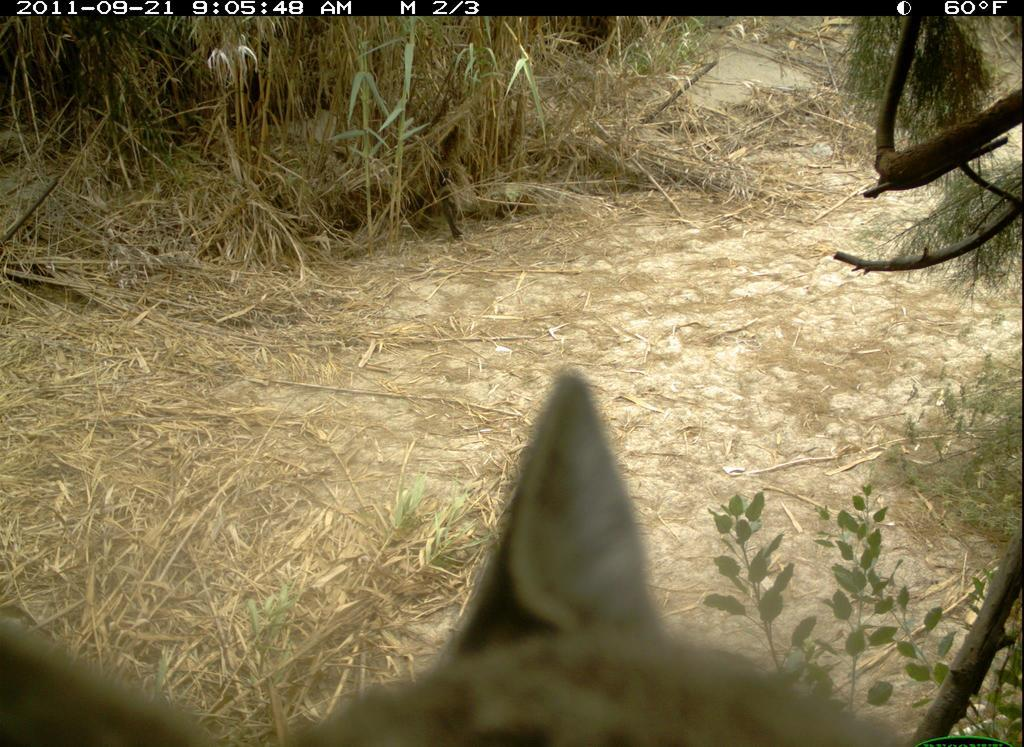bobcat: (1, 358, 937, 745)
